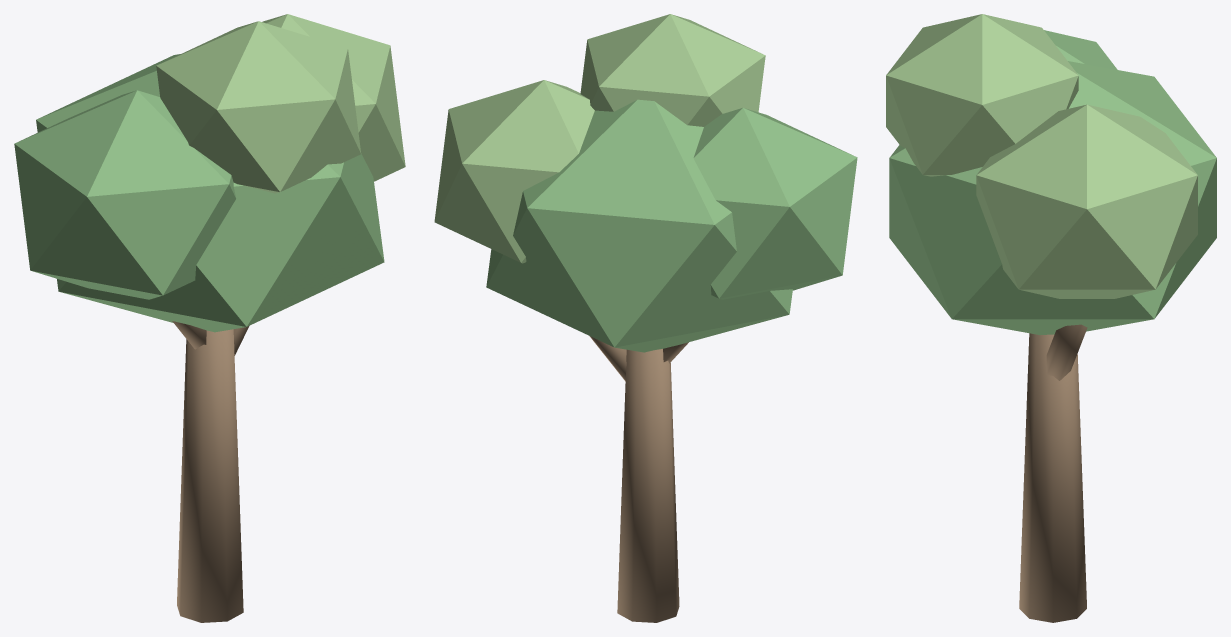
The model's file is tree.glb.
The picture shows the model from 3 angles, left to right: view 1: azimuth 30°, elevation 25°; view 2: azimuth 150°, elevation 25°; view 3: azimuth 270°, elevation 25°; orthographic projection. The views are drawn at different scales.
Visible parts, largest first — view 1: ShadeTree; view 2: ShadeTree; view 3: ShadeTree.
Boxes of the visible parts, <box> form: ShadeTree: <box>14,14,405,622</box>; ShadeTree: <box>434,14,857,622</box>; ShadeTree: <box>886,14,1216,622</box>.
Size of the model in its own units: 1.57 by 2.34 by 1.17.
